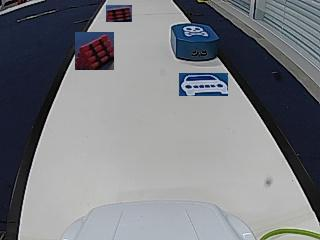danger: (183, 25, 207, 37)
